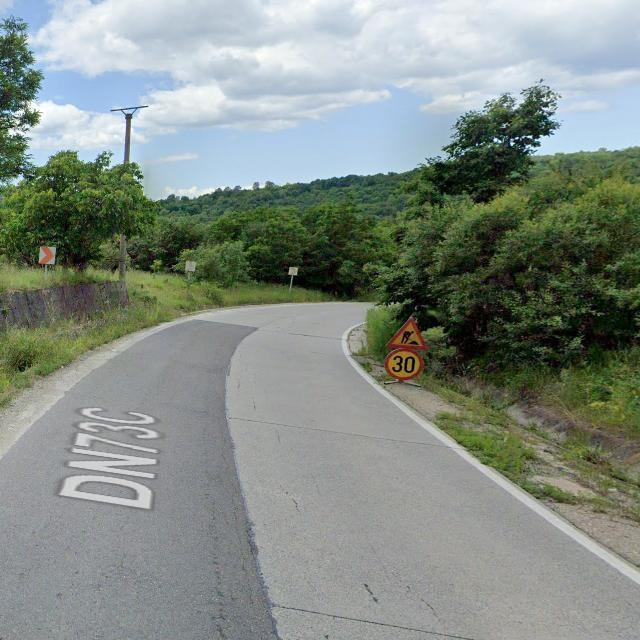forb_speed_over_30: (385, 348, 424, 380)
